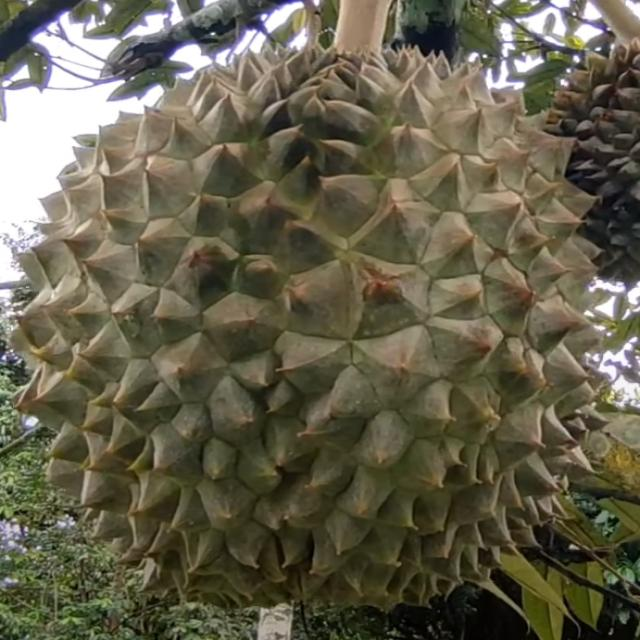immature: (10, 32, 614, 626)
